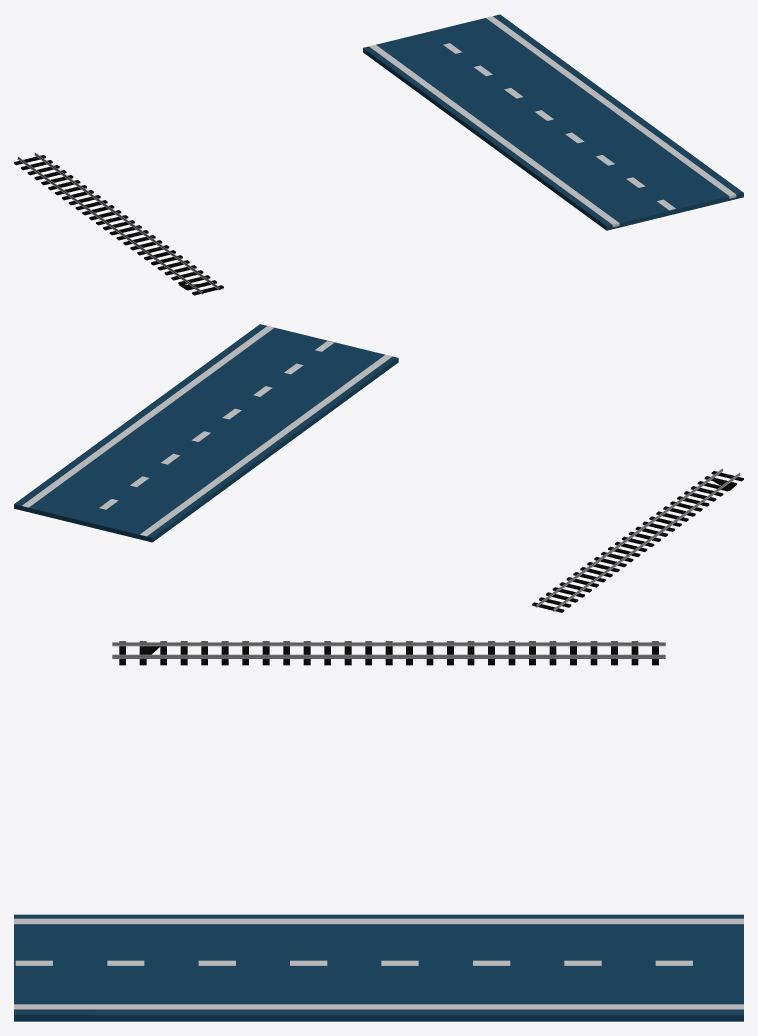
File: attempt.obj
The picture shows the model from 3 angles, top to bottom: view 1: azimuth 30°, elevation 25°; view 2: azimuth 150°, elevation 25°; view 3: azimuth 270°, elevation 25°; orthographic projection. The views are drawn at different scales.
Visible parts, largest first — view 1: CUPIC_ROAD.000, CUPIC_ROAD.001; view 2: CUPIC_ROAD.000, CUPIC_ROAD.001; view 3: CUPIC_ROAD.000, CUPIC_ROAD.001.
Part boxes in pixels (left/top/right/bottom): CUPIC_ROAD.000: left=363, top=14, right=743, bottom=230; CUPIC_ROAD.001: left=14, top=152, right=223, bottom=295; CUPIC_ROAD.000: left=14, top=324, right=398, bottom=542; CUPIC_ROAD.001: left=532, top=468, right=743, bottom=612; CUPIC_ROAD.000: left=14, top=914, right=743, bottom=1021; CUPIC_ROAD.001: left=112, top=641, right=665, bottom=665.
Bounding box in the file's own units: 12 × 0.1159 × 9.83.
Materials: 4 (1 with a texture image).
